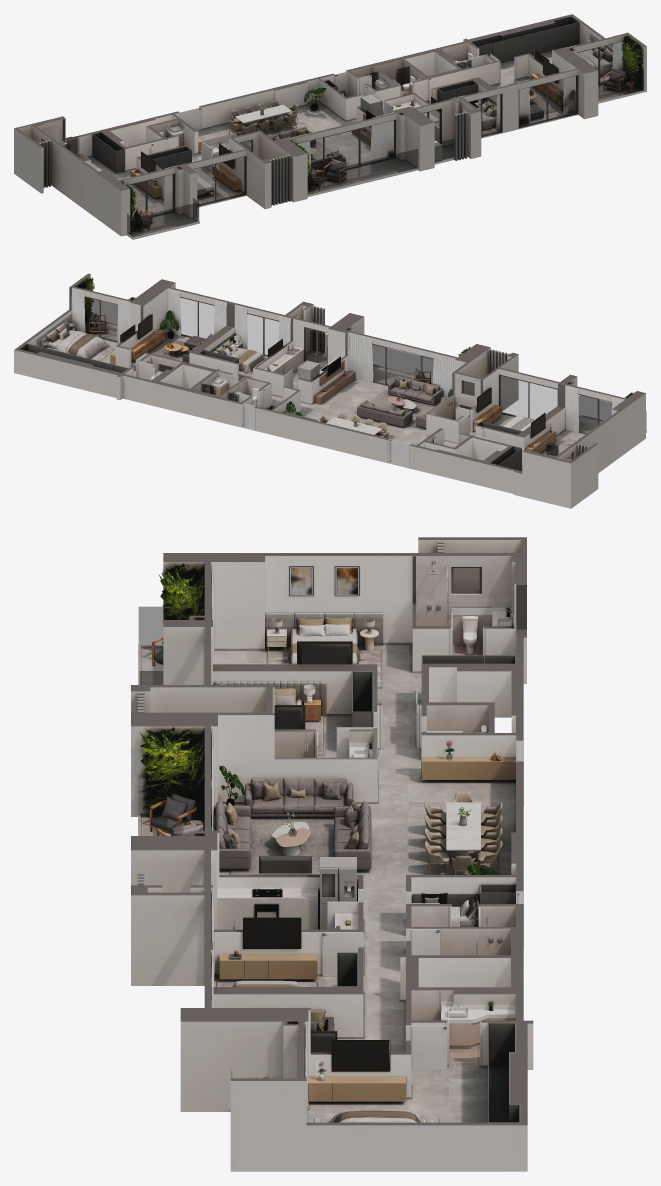
File: apartment.glb
The picture shows the model from 3 angles, top to bottom: view 1: azimuth 30°, elevation 25°; view 2: azimuth 150°, elevation 25°; view 3: azimuth 270°, elevation 25°; orthographic projection. The views are drawn at different scales.
Visible parts, largest first — view 1: rendertotexture, Glass, bake, bakeplantas; view 2: rendertotexture, Glass, bake, B-ACC-06-Plant, bakeplantas; view 3: rendertotexture, bake, bakeplantas, Glass.
Boxes of the visible parts, bbox=[...] form: rendertotexture: bbox=[14, 14, 646, 239]; Glass: bbox=[43, 42, 643, 237]; bake: bbox=[134, 48, 625, 222]; bakeplantas: bbox=[127, 38, 643, 230]; rendertotexture: bbox=[14, 273, 646, 508]; Glass: bbox=[85, 297, 646, 461]; bake: bbox=[46, 311, 571, 457]; B-ACC-06-Plant: bbox=[160, 310, 551, 434]; bakeplantas: bbox=[78, 277, 634, 398]; rendertotexture: bbox=[131, 537, 533, 1171]; bake: bbox=[161, 617, 479, 1122]; bakeplantas: bbox=[140, 563, 281, 1078]; Glass: bbox=[139, 568, 479, 1077].
Bounding box in the file's own units: 31.56 × 2.72 × 9.95.
5 materials, 4 textured.
